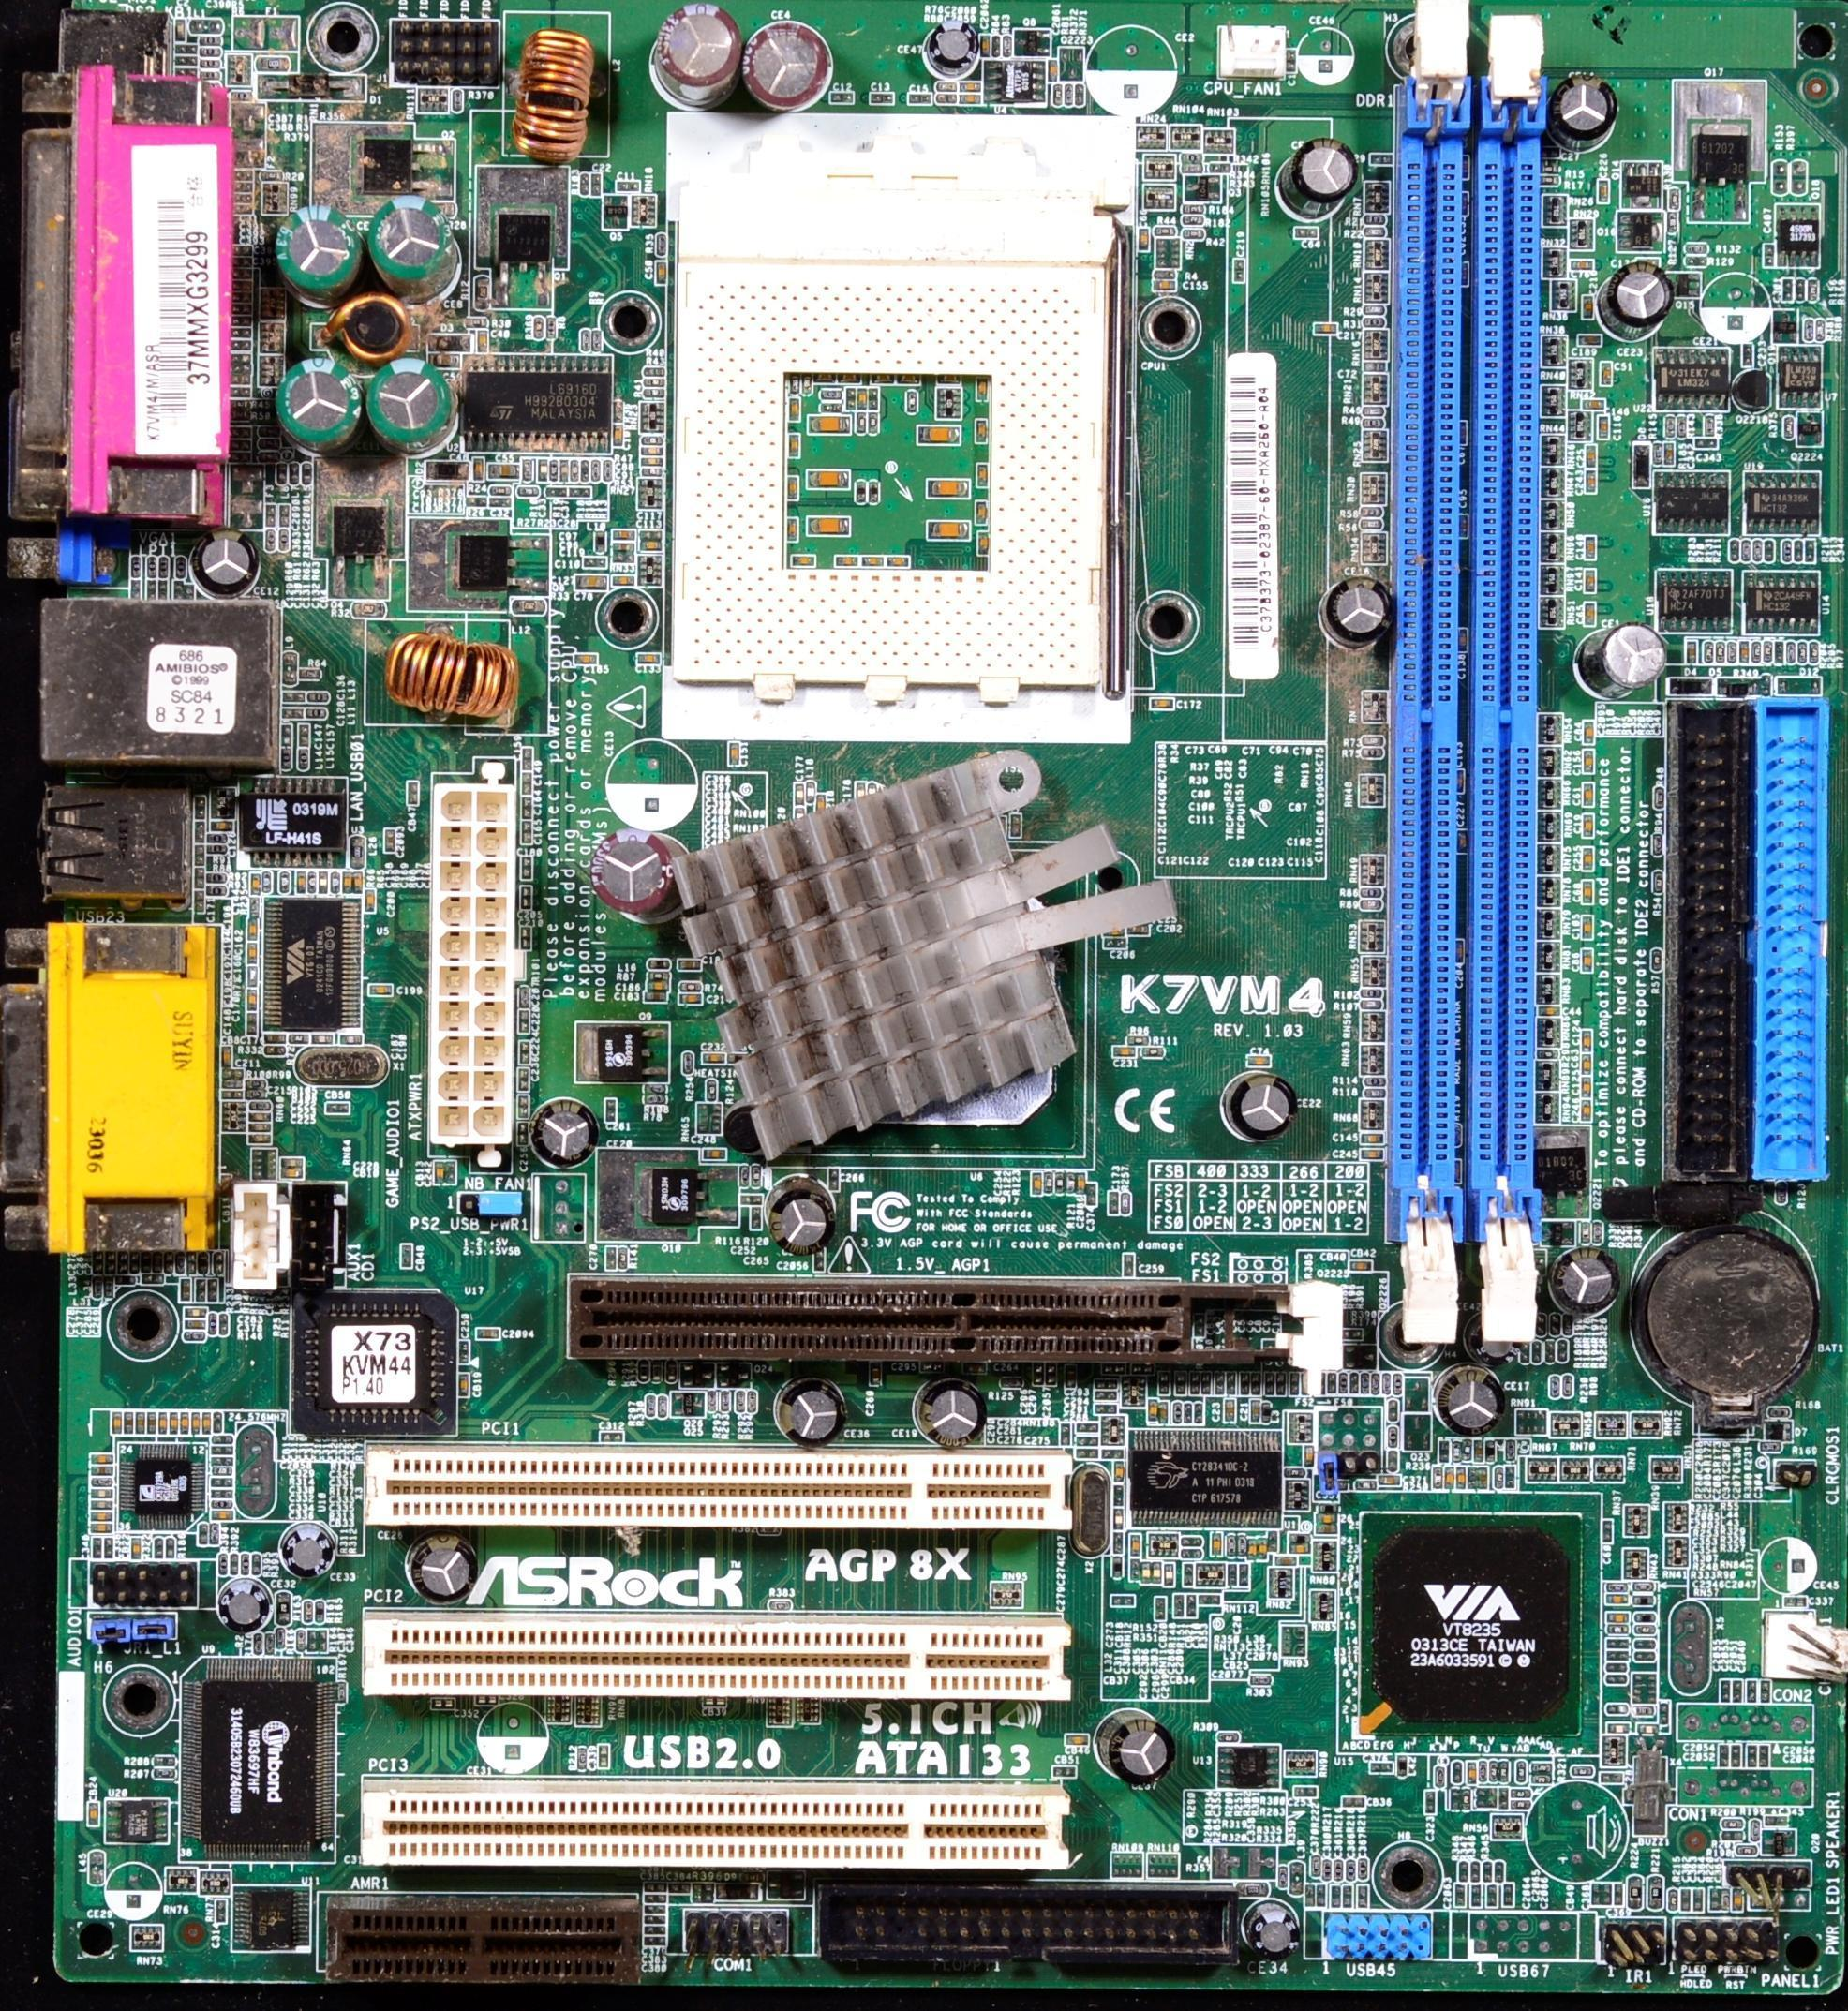Capacitor: (1232, 259, 1246, 285), (678, 957, 703, 971), (1362, 1147, 1385, 1161), (1031, 1172, 1044, 1197), (457, 1373, 470, 1397), (1767, 1406, 1793, 1419), (1454, 1883, 1468, 1908), (1740, 343, 1753, 367), (605, 1098, 618, 1125), (701, 1148, 727, 1160), (185, 1306, 210, 1318), (1605, 1612, 1632, 1624), (1732, 1678, 1744, 1704), (1600, 362, 1612, 387), (1580, 398, 1606, 410), (1584, 749, 1596, 774), (1065, 1733, 1087, 1746), (1729, 1745, 1742, 1767), (1501, 1883, 1514, 1906), (823, 468, 845, 483), (933, 481, 957, 494), (1103, 937, 1128, 949), (679, 993, 704, 1005), (702, 1052, 726, 1065), (1246, 1054, 1272, 1067), (1108, 1190, 1119, 1214), (400, 1244, 412, 1269), (1349, 1259, 1374, 1272), (477, 1327, 500, 1338), (458, 1340, 470, 1365), (90, 1488, 114, 1500), (430, 1697, 455, 1709), (1606, 1721, 1631, 1735), (598, 1744, 609, 1769), (1369, 1762, 1393, 1774), (87, 1803, 100, 1826), (1329, 1884, 1341, 1909), (1598, 178, 1609, 203), (1781, 276, 1794, 302), (1582, 295, 1594, 320), (1315, 322, 1339, 335), (1598, 415, 1610, 439), (1693, 438, 1718, 451), (1585, 603, 1597, 627), (1151, 696, 1175, 708), (1583, 783, 1595, 807), (647, 978, 667, 991), (1286, 46, 1297, 73), (645, 991, 668, 1002), (1580, 1099, 1592, 1122), (751, 1207, 764, 1230), (1438, 1440, 1450, 1463), (1747, 1679, 1759, 1703), (1759, 1679, 1770, 1703), (1056, 1765, 1079, 1777), (1342, 1796, 1365, 1808), (1425, 1790, 1438, 1813), (1765, 1815, 1787, 1827), (1470, 1884, 1483, 1908), (643, 1934, 665, 1946), (1294, 227, 1318, 238), (1138, 228, 1149, 250), (1154, 278, 1178, 291), (1805, 539, 1816, 562), (1360, 1133, 1385, 1144), (1605, 1594, 1631, 1605), (1568, 260, 1594, 270), (1112, 1046, 1138, 1057), (434, 1161, 445, 1186), (112, 1410, 123, 1435), (1505, 1465, 1515, 1489), (1454, 1467, 1466, 1488), (90, 1477, 114, 1488), (210, 1510, 234, 1520), (89, 1510, 113, 1521), (1111, 1595, 1132, 1606), (474, 1695, 499, 1706), (702, 1698, 726, 1707), (1759, 1746, 1770, 1767), (1293, 1787, 1318, 1797), (1305, 1882, 1315, 1906), (1486, 1884, 1498, 1906), (1342, 1884, 1352, 1909), (1679, 1888, 1691, 1913), (1693, 1888, 1705, 1913), (1709, 1888, 1720, 1914), (643, 1914, 667, 1924), (1577, 335, 1602, 347), (1585, 535, 1596, 559), (1585, 568, 1596, 592), (1584, 847, 1594, 871), (1581, 949, 1592, 973), (828, 1168, 840, 1192), (606, 1247, 617, 1270), (184, 1318, 207, 1329), (601, 1431, 624, 1441), (1473, 1438, 1483, 1461), (91, 1465, 113, 1475), (1444, 1466, 1453, 1489), (91, 1500, 113, 1510), (132, 1537, 142, 1558), (307, 1628, 318, 1649), (318, 1629, 327, 1652), (1720, 1679, 1731, 1703), (1498, 1785, 1509, 1808), (645, 1882, 667, 1892), (1318, 1884, 1327, 1906), (1614, 1884, 1623, 1906), (1602, 1884, 1613, 1907), (1358, 1884, 1368, 1908), (1733, 1889, 1743, 1912), (215, 1900, 226, 1923), (643, 1925, 665, 1935), (1764, 243, 1775, 267), (816, 418, 839, 429), (1665, 441, 1676, 465), (1586, 469, 1596, 493), (281, 505, 291, 528), (574, 578, 597, 588), (1686, 641, 1696, 664), (1637, 1722, 1657, 1735), (788, 401, 801, 421), (978, 379, 988, 404), (1086, 1184, 1096, 1206), (741, 1194, 763, 1206), (92, 1454, 112, 1464), (91, 1523, 112, 1532), (92, 1538, 102, 1559), (1720, 1745, 1730, 1765), (693, 1882, 713, 1891), (817, 519, 840, 529), (1584, 916, 1594, 938), (924, 429, 950, 438), (1585, 721, 1594, 744), (1585, 814, 1594, 839), (1540, 1005, 1559, 1016), (814, 1253, 826, 1272), (1541, 147, 1561, 157), (129, 576, 141, 595), (1582, 1053, 1591, 1075), (447, 1161, 455, 1184), (124, 1412, 133, 1435), (1468, 1466, 1477, 1489), (1603, 1519, 1611, 1542), (1748, 1745, 1757, 1768), (1468, 1761, 1477, 1783), (643, 1895, 666, 1904), (831, 94, 849, 103), (913, 95, 930, 105), (1581, 1030, 1591, 1051), (1077, 1172, 1086, 1193), (960, 1363, 981, 1372), (872, 1363, 881, 1384), (158, 1412, 167, 1433), (136, 1413, 145, 1435), (1480, 1467, 1489, 1488), (105, 1538, 113, 1559), (670, 1881, 688, 1892), (1592, 1884, 1602, 1906), (1587, 444, 1596, 467), (474, 458, 483, 480), (978, 531, 988, 551), (1740, 643, 1749, 664), (638, 653, 656, 664), (284, 689, 301, 699), (1585, 880, 1593, 903), (374, 987, 392, 995), (1582, 1077, 1590, 1096), (171, 1413, 179, 1434), (787, 478, 795, 498), (977, 497, 986, 516), (934, 525, 953, 534), (840, 553, 856, 564), (180, 1412, 187, 1435), (592, 172, 599, 194), (645, 1905, 667, 1914), (1363, 365, 1385, 373), (247, 991, 255, 1009), (481, 333, 488, 350), (795, 555, 812, 564), (148, 1411, 156, 1433), (191, 1414, 199, 1435), (1133, 1561, 1140, 1582), (846, 385, 854, 406), (857, 386, 866, 406), (578, 651, 592, 663), (1226, 1374, 1235, 1390), (1093, 1394, 1119, 1400), (1226, 1404, 1235, 1420), (977, 463, 985, 483), (175, 46, 194, 53), (888, 558, 907, 564), (732, 746, 739, 765), (409, 784, 415, 804), (540, 464, 550, 477), (521, 986, 527, 1004), (1190, 1373, 1198, 1388), (1161, 1377, 1170, 1392), (1096, 1408, 1113, 1415), (202, 1413, 211, 1432), (216, 1448, 232, 1453), (1079, 1451, 1097, 1457), (1203, 1593, 1218, 1601), (588, 561, 604, 568), (283, 723, 291, 741), (522, 886, 529, 904), (1460, 626, 1466, 648), (1105, 1363, 1122, 1370), (1253, 1402, 1258, 1423), (1115, 1467, 1123, 1482), (1144, 1566, 1151, 1582), (1175, 1594, 1181, 1615), (790, 435, 797, 450), (645, 445, 660, 452), (267, 505, 272, 525), (526, 749, 531, 769), (1458, 773, 1464, 788), (522, 859, 528, 881), (344, 874, 350, 889), (365, 889, 371, 906), (237, 169, 249, 176), (233, 182, 246, 190), (872, 97, 891, 101), (520, 1125, 525, 1143), (924, 1365, 944, 1370), (1266, 1374, 1272, 1393), (1095, 1381, 1114, 1387), (213, 824, 231, 829), (223, 1050, 230, 1064), (251, 1137, 265, 1143), (1137, 1363, 1151, 1369), (1160, 1405, 1167, 1420), (1381, 1478, 1396, 1486), (646, 457, 660, 465), (796, 784, 802, 799), (320, 873, 328, 887), (297, 874, 306, 888), (522, 1015, 527, 1032), (1049, 1365, 1054, 1381), (1035, 1365, 1041, 1382), (1177, 1374, 1183, 1392), (1203, 1374, 1208, 1392), (1151, 1402, 1155, 1419), (1078, 1424, 1095, 1430), (662, 263, 668, 281), (869, 390, 873, 409), (982, 35, 989, 52), (560, 458, 566, 476), (1462, 517, 1468, 534), (176, 57, 194, 63), (305, 714, 321, 720), (524, 822, 529, 840), (328, 1103, 339, 1111), (241, 204, 252, 212), (182, 586, 188, 597), (311, 692, 323, 698), (817, 796, 825, 807), (1065, 1368, 1070, 1384), (1214, 1377, 1219, 1393), (1364, 1377, 1367, 1393), (1395, 1377, 1401, 1393), (1108, 1451, 1123, 1456), (1157, 1564, 1164, 1581), (976, 423, 980, 439), (151, 580, 156, 596), (177, 71, 193, 77), (299, 725, 305, 740), (524, 798, 529, 815), (253, 877, 258, 894), (251, 920, 256, 936), (1189, 1595, 1193, 1616), (791, 514, 796, 538), (1462, 828, 1467, 851), (524, 927, 528, 947), (521, 1071, 527, 1081), (521, 1095, 526, 1109), (1351, 1377, 1355, 1391), (215, 1490, 230, 1497), (1259, 1542, 1265, 1555), (1169, 1566, 1173, 1580), (622, 186, 636, 191), (614, 429, 618, 443), (617, 575, 627, 582), (171, 587, 178, 598), (964, 85, 978, 91), (1117, 1511, 1122, 1528), (235, 193, 247, 199), (495, 468, 506, 473), (1242, 1374, 1245, 1391), (1254, 1374, 1258, 1392), (1292, 1374, 1296, 1391), (1342, 1374, 1346, 1391), (1331, 1375, 1335, 1393), (1284, 1376, 1288, 1393), (1214, 1535, 1218, 1553), (1231, 1568, 1235, 1585), (618, 531, 628, 538), (524, 772, 528, 791), (247, 947, 253, 959), (269, 1035, 281, 1041), (251, 1126, 266, 1130), (1064, 1426, 1067, 1441), (1080, 1439, 1096, 1443), (215, 1479, 227, 1483), (497, 500, 508, 507), (645, 544, 655, 548), (1051, 63, 1055, 79), (523, 1044, 528, 1058), (1133, 1538, 1138, 1553), (1251, 1543, 1254, 1557), (1242, 1568, 1245, 1582), (165, 585, 169, 600), (353, 873, 358, 887), (292, 1035, 301, 1040), (282, 711, 294, 715), (1460, 942, 1463, 965), (1159, 1597, 1161, 1620), (254, 1114, 265, 1118), (1294, 1546, 1304, 1550), (289, 1159, 297, 1164), (1385, 1376, 1388, 1393), (287, 1169, 293, 1175), (962, 98, 969, 101), (1376, 1376, 1378, 1389), (863, 557, 877, 559), (214, 1461, 227, 1463), (1318, 1516, 1329, 1519)
Connector: (1481, 155, 1522, 1183), (1405, 143, 1447, 1148), (406, 1795, 1001, 1854), (398, 1639, 1017, 1691), (396, 1471, 1023, 1519), (1218, 25, 1285, 78)
IC: (1385, 1541, 1562, 1717), (183, 1657, 334, 1862), (272, 906, 353, 1023), (472, 365, 601, 438), (1136, 1442, 1265, 1514), (118, 1441, 209, 1522), (1653, 347, 1730, 411), (1742, 573, 1818, 635), (1747, 473, 1819, 534), (1655, 473, 1727, 532), (1659, 572, 1729, 631), (235, 1890, 307, 1947), (248, 801, 319, 842), (105, 1798, 169, 1843), (1779, 345, 1822, 409), (1217, 1746, 1280, 1789), (989, 66, 1038, 98), (1771, 308, 1798, 344)
Resistor: (1772, 160, 1790, 193), (276, 1591, 291, 1625), (1647, 1875, 1662, 1909), (1790, 161, 1807, 195), (1627, 1876, 1643, 1909), (787, 370, 799, 398), (1216, 1730, 1242, 1743), (1572, 1765, 1594, 1778), (678, 980, 703, 993), (739, 1165, 751, 1189), (1606, 1638, 1631, 1649), (1750, 1819, 1762, 1842), (1183, 228, 1207, 240), (1362, 747, 1385, 758), (184, 1330, 205, 1343), (209, 1523, 220, 1545), (1668, 1888, 1679, 1911), (1668, 188, 1680, 212), (1364, 227, 1387, 238), (1686, 243, 1708, 255), (1807, 278, 1818, 301), (1705, 415, 1717, 438), (1763, 540, 1774, 562), (642, 1095, 667, 1106), (219, 1313, 229, 1338), (1433, 1465, 1443, 1490), (1360, 989, 1383, 999), (643, 1083, 667, 1093), (1531, 1341, 1543, 1363), (1561, 1376, 1572, 1396), (1605, 1650, 1629, 1661), (1632, 1705, 1654, 1717), (1515, 1760, 1528, 1781), (155, 1768, 175, 1780), (1721, 1888, 1730, 1913), (1154, 225, 1176, 236), (1363, 406, 1387, 417), (1677, 414, 1687, 439), (1652, 441, 1662, 466), (1652, 832, 1662, 857), (1126, 1035, 1149, 1046), (1580, 1223, 1591, 1245), (1536, 1312, 1546, 1334), (208, 1312, 218, 1335), (1563, 1313, 1573, 1335), (1545, 1339, 1555, 1362), (1549, 1376, 1559, 1398), (218, 1553, 229, 1575), (1181, 152, 1204, 162), (304, 1601, 313, 1623), (1634, 1650, 1657, 1661), (154, 1756, 176, 1766), (1451, 1788, 1461, 1811), (1482, 1859, 1493, 1881), (693, 1892, 715, 1902), (1668, 212, 1678, 234), (1795, 278, 1806, 301), (1362, 305, 1384, 315), (1364, 317, 1386, 327), (1802, 319, 1813, 341), (1783, 415, 1794, 438), (1360, 506, 1382, 517), (1362, 519, 1383, 529), (1729, 541, 1740, 564), (1809, 642, 1820, 663), (1362, 737, 1384, 746), (1362, 899, 1383, 910), (165, 1538, 177, 1557), (1726, 644, 1737, 663), (1181, 205, 1207, 214), (1361, 1001, 1382, 1010), (1144, 1047, 1165, 1058), (706, 1078, 717, 1099), (1122, 1193, 1132, 1214), (1592, 1222, 1603, 1244), (1557, 1340, 1568, 1362), (1507, 1439, 1516, 1461), (1181, 1538, 1201, 1548), (1632, 1582, 1654, 1592), (252, 1632, 263, 1654), (1634, 1640, 1656, 1649), (1208, 162, 1230, 173), (1251, 1676, 1272, 1685), (1606, 1705, 1627, 1715), (1479, 1760, 1489, 1781), (1498, 1760, 1509, 1781), (1452, 1761, 1462, 1782), (1435, 1766, 1445, 1787), (1476, 1787, 1498, 1797), (578, 172, 589, 192), (1722, 1818, 1743, 1828), (1721, 1831, 1743, 1841), (1495, 1861, 1505, 1882), (1183, 214, 1204, 225), (1365, 214, 1386, 225), (1665, 417, 1676, 438), (1740, 540, 1751, 560), (1752, 540, 1763, 561), (1362, 887, 1382, 899), (1056, 1171, 1066, 1196), (1759, 1441, 1783, 1451), (1605, 1582, 1629, 1591), (1605, 1626, 1630, 1635), (1550, 1315, 1560, 1335), (1452, 1439, 1462, 1460), (154, 1538, 164, 1557), (1531, 1762, 1551, 1773), (1346, 1860, 1355, 1880), (1469, 1861, 1481, 1880), (1457, 1864, 1468, 1883), (684, 1052, 693, 1075), (618, 1246, 628, 1269), (198, 1523, 207, 1545), (316, 1601, 323, 1623), (296, 1629, 306, 1651), (265, 1631, 274, 1653), (1179, 164, 1202, 173), (1605, 1675, 1627, 1684), (338, 1679, 347, 1703), (578, 1748, 587, 1770), (1462, 1788, 1471, 1810), (1311, 1855, 1319, 1878), (1279, 1866, 1287, 1888), (1686, 257, 1707, 266), (1816, 319, 1825, 341), (1797, 641, 1807, 663), (1786, 642, 1795, 664), (1654, 871, 1662, 893), (1652, 951, 1661, 973), (1364, 1087, 1386, 1097), (752, 1166, 761, 1186), (1066, 1172, 1076, 1193), (1521, 1343, 1528, 1364), (1462, 1440, 1471, 1461), (1494, 1467, 1502, 1488), (276, 1630, 286, 1650), (1542, 161, 1559, 172), (1488, 1760, 1498, 1781), (1737, 1844, 1755, 1855), (1322, 1859, 1331, 1879), (1334, 1858, 1343, 1880), (1154, 268, 1176, 277), (1794, 539, 1803, 561), (1716, 642, 1725, 663), (1705, 643, 1714, 663), (647, 972, 671, 979), (304, 664, 316, 678), (214, 1412, 222, 1432), (760, 1527, 780, 1536), (1634, 1625, 1654, 1634), (1512, 1788, 1530, 1797), (1476, 1800, 1497, 1810), (1359, 1858, 1368, 1878), (1751, 642, 1761, 660), (1763, 643, 1771, 663), (1655, 788, 1664, 808), (580, 333, 589, 349), (644, 465, 660, 474), (1045, 1172, 1053, 1195), (231, 1552, 239, 1574), (1605, 1663, 1627, 1672), (1511, 1801, 1532, 1809), (1782, 540, 1791, 562), (645, 1398, 654, 1416), (535, 320, 543, 337), (907, 395, 916, 413), (1363, 1077, 1384, 1085), (749, 1392, 755, 1411), (1531, 1776, 1552, 1783), (1056, 88, 1065, 104), (1238, 1538, 1246, 1555), (469, 498, 485, 506), (361, 607, 377, 617), (248, 1080, 268, 1088), (1541, 176, 1560, 185), (658, 232, 665, 253), (1363, 418, 1381, 426), (455, 94, 462, 111), (802, 376, 809, 395), (641, 391, 659, 398), (819, 403, 837, 410), (643, 434, 657, 443), (525, 459, 533, 476), (604, 458, 611, 477), (521, 489, 538, 496), (174, 558, 183, 574), (333, 872, 339, 890), (268, 1046, 283, 1053), (737, 1392, 743, 1412), (547, 319, 554, 335), (592, 460, 599, 476), (267, 532, 273, 548), (134, 556, 142, 572), (942, 94, 955, 102), (215, 1437, 229, 1443), (648, 379, 662, 386), (202, 37, 216, 43), (993, 39, 1000, 52), (201, 69, 214, 77), (1228, 1535, 1233, 1552), (598, 335, 603, 351), (149, 557, 154, 574), (235, 92, 247, 97), (1005, 1377, 1018, 1383), (212, 836, 225, 842), (281, 876, 288, 887), (211, 886, 223, 894), (1358, 1482, 1373, 1488), (572, 463, 576, 479), (584, 466, 589, 482), (492, 487, 509, 493), (341, 1034, 355, 1039), (723, 1394, 727, 1408), (1185, 1551, 1197, 1557), (244, 1557, 248, 1572), (472, 317, 483, 324), (160, 559, 165, 574), (211, 872, 221, 880), (618, 403, 621, 422), (824, 393, 836, 397), (201, 49, 214, 54), (264, 877, 270, 889), (315, 1035, 323, 1042), (256, 1101, 265, 1109), (551, 459, 555, 476), (1066, 84, 1070, 102), (246, 1091, 256, 1096), (670, 1366, 675, 1381), (711, 1393, 714, 1408), (661, 1397, 664, 1413), (216, 1466, 228, 1471), (280, 536, 286, 546), (643, 1364, 647, 1378), (647, 369, 660, 374), (1005, 38, 1008, 52), (207, 845, 221, 850), (214, 1502, 227, 1507), (205, 57, 213, 64), (255, 1556, 258, 1571), (1078, 89, 1080, 104), (938, 82, 952, 84), (310, 874, 312, 886)
Transistor: (642, 1169, 738, 1227), (578, 1023, 667, 1080), (1693, 125, 1747, 220), (1536, 1129, 1588, 1216), (1776, 204, 1817, 267), (505, 220, 550, 270), (369, 143, 413, 190), (1617, 210, 1663, 252), (1622, 162, 1662, 210), (468, 537, 504, 584), (334, 510, 372, 551), (769, 1872, 805, 1900), (1668, 272, 1705, 298), (1796, 412, 1823, 448), (1762, 1830, 1796, 1856), (1541, 1220, 1574, 1244), (1186, 180, 1215, 201), (1021, 32, 1040, 52), (609, 202, 622, 228), (725, 1365, 740, 1381), (682, 1396, 699, 1412), (690, 1367, 707, 1381)
